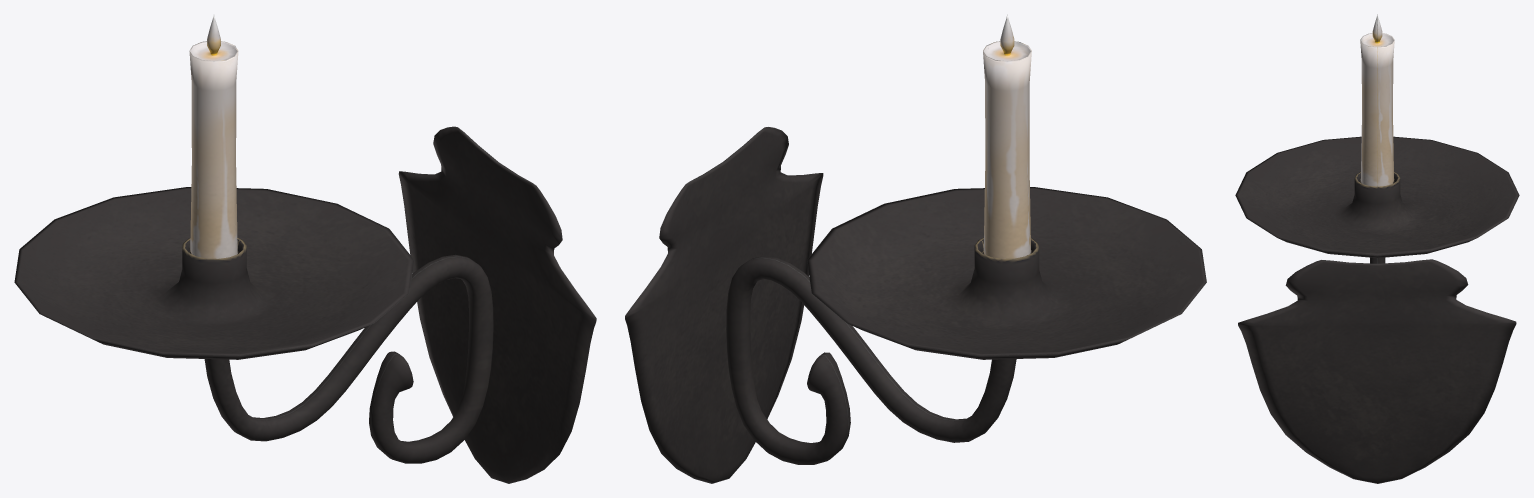
The model's file is wall_candle.glb.
3 views of the same model, side by side, from view 1: azimuth 30°, elevation 25°; view 2: azimuth 150°, elevation 25°; view 3: azimuth 270°, elevation 25° (orthographic). The views are drawn at different scales.
Visible parts, largest first — view 1: Base_0; view 2: Base_0; view 3: Base_0.
Boxes of the visible parts, x1,y1,x2,y2 form: Base_0: (14,15,596,483); Base_0: (625,14,1206,483); Base_0: (1235,14,1519,483).
Bounding box in the file's own units: 2.38 × 2.62 × 1.8.
Materials: 1 (1 with a texture image).
